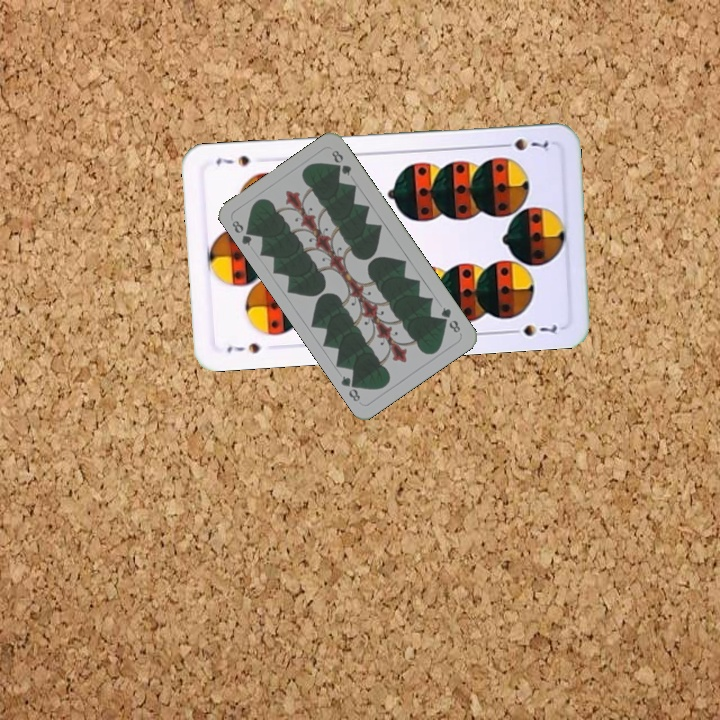G8: (228, 216, 257, 249), (437, 303, 463, 336)
S7: (495, 134, 551, 153), (223, 338, 263, 357)
